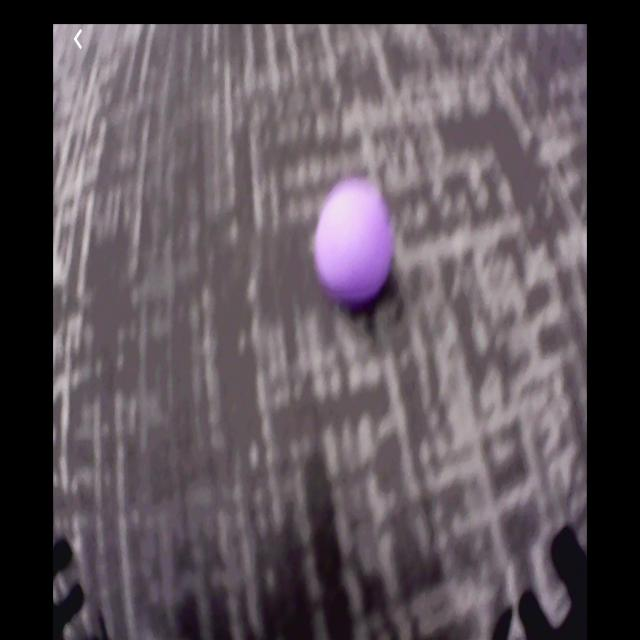ball: (317, 182, 394, 301)
